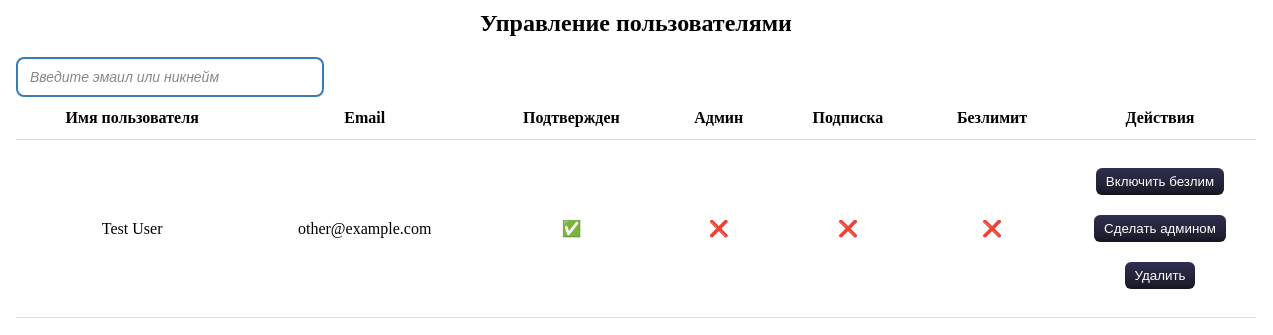
Scenario: ManageUsers › Тест устновки прав админа
Click the button "Сделать админом" at (1160,228), box [1094,215,1226,242]
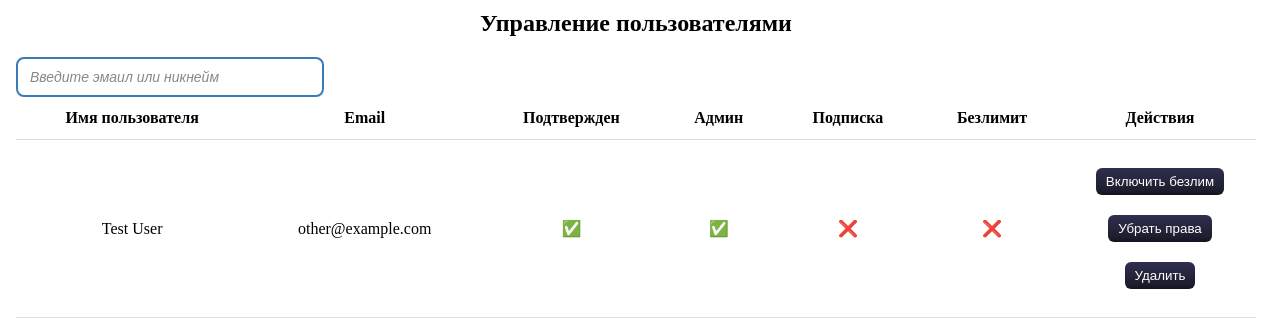
Expected: the text "other@example.com" is shown, [298,220,431,236]
Result: the 2nd cell "✅" is shown at [662,140,776,318]
